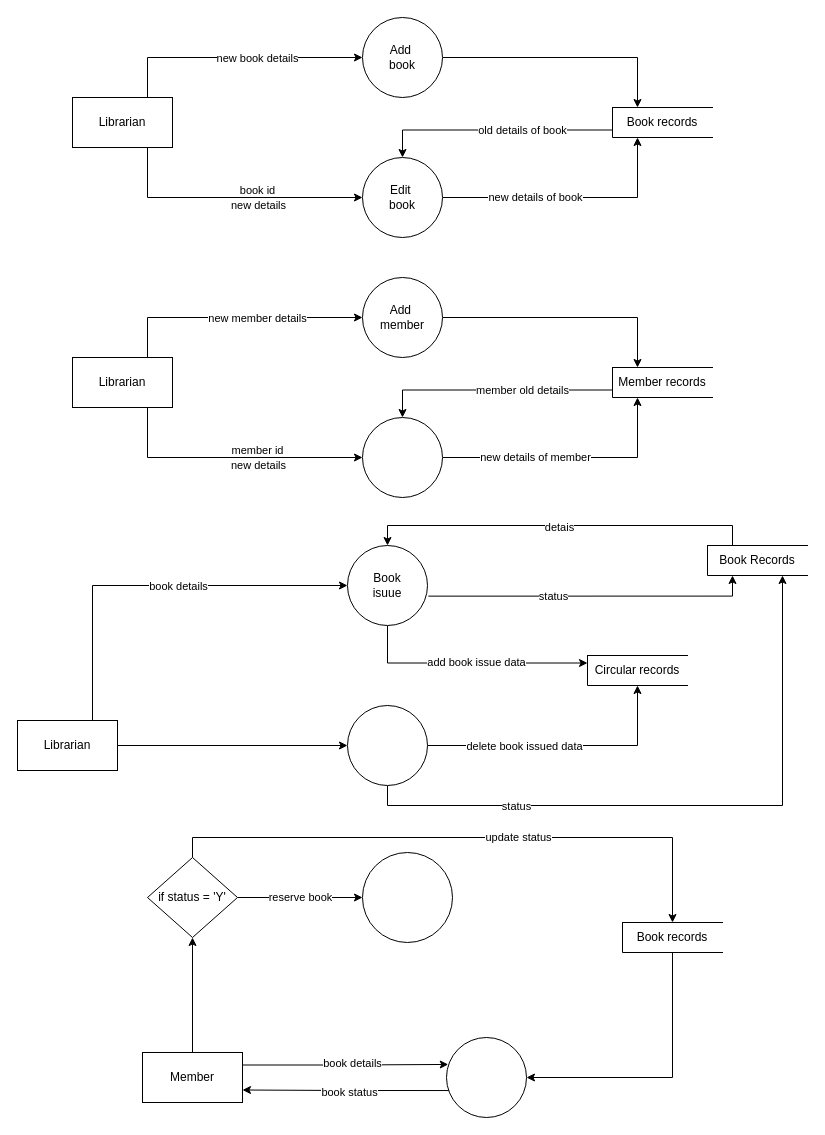
The diagram is 825 pixels wide and 1135 high, and some of its shapes have lost their labels. Here are the shapes that lost their labels. From the top down, the box of each, then its label:
(362, 416, 442, 498): Edit member/ membership
(346, 704, 428, 786): Book return
(362, 852, 452, 942): Circulation Management
(446, 1036, 526, 1118): Book search
